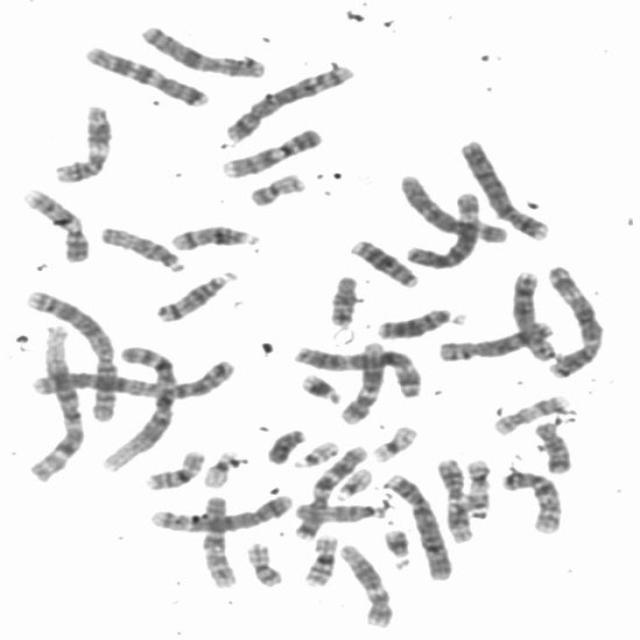A1: (21, 307, 90, 486), (98, 340, 181, 474)
A2: (20, 285, 121, 425), (25, 353, 244, 402)
A3: (289, 339, 426, 398), (541, 260, 607, 380)
B4: (454, 134, 552, 242), (381, 469, 454, 582)
B5: (218, 58, 358, 144), (146, 489, 296, 534)
C10: (496, 464, 566, 536), (196, 490, 240, 590)
C11: (49, 99, 117, 185), (431, 453, 477, 543)
C12: (336, 539, 398, 629), (335, 336, 387, 425)
C6: (395, 167, 512, 245), (399, 187, 485, 271)
C7: (79, 42, 212, 108), (288, 439, 369, 540)
C8: (432, 317, 558, 363), (506, 266, 558, 362)
C9: (216, 122, 325, 180), (16, 183, 92, 264)
D13: (346, 234, 423, 289), (372, 302, 459, 341)
D14: (150, 265, 240, 324), (166, 219, 264, 253)
D15: (95, 219, 189, 274), (290, 496, 390, 524)
E16: (140, 444, 209, 492), (300, 530, 340, 588)
E17: (488, 388, 575, 436), (462, 454, 493, 519)
E18: (529, 416, 576, 475), (323, 269, 362, 328)
F19: (367, 420, 421, 463), (198, 445, 244, 490)
F20: (244, 168, 309, 208), (240, 538, 287, 588)
G21: (296, 368, 345, 405), (379, 524, 413, 562)
G22: (289, 436, 343, 469), (329, 464, 374, 501)
X: (135, 20, 268, 80)
Y: (262, 423, 309, 465)
